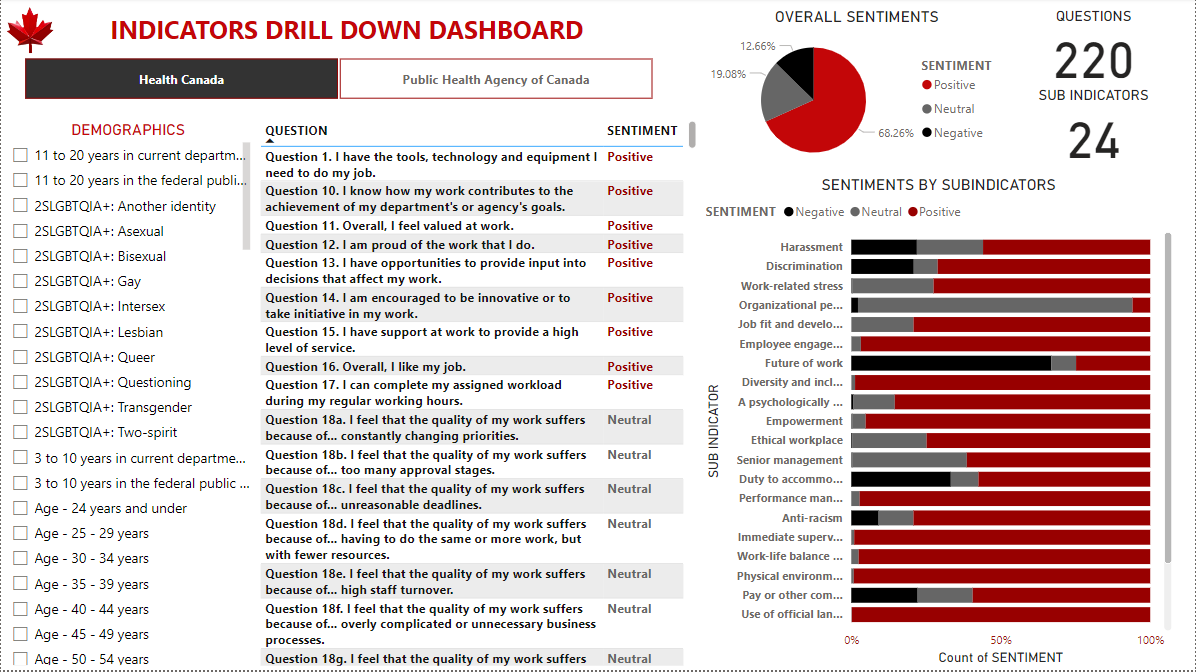

What the dashboard file says about the page in this screenshot:
{"tool":"powerbi","page":{"name":"INDICATORS ANALYSIS","canvas":[1280,720],"ordinal":1},"visuals":[{"type":"tableEx","fields":{"Values":["QUESTIONID_TITLE.TITLE_E","COMBINED_DATASETS.avgSentimentLabel"]},"box":[272.4,125.9,478.1,593.7],"z":0},{"type":"slicer","fields":{"Values":["LVL_Department.DEPT_E"]},"box":[0,57.8,722,56.8],"z":1000},{"type":"slicer","title":"DEMOGRAPHICS","fields":{"Values":["DEMCODE_BYCOND_DESCRIPTION.DESCRIP_E"]},"box":[0,131.1,272.4,588.6],"z":2000},{"type":"pieChart","title":"OVERALL SENTIMENTS","fields":{"Category":["COMBINED_DATASETS.SENTIMENT"],"Y":["CountNonNull(COMBINED_DATASETS.SENTIMENT)"]},"box":[750,9.9,334.3,180.3],"z":3000},{"type":"hundredPercentStackedBarChart","title":"SENTIMENTS BY SUBINDICATORS","fields":{"Category":["SUBINDICATOR.SUBINDICATORENG_1"],"Series":["COMBINED_DATASETS.SENTIMENT"],"Y":["CountNonNull(COMBINED_DATASETS.SENTIMENT)"]},"box":[750,189.5,509.3,530.2],"z":4000},{"type":"card","title":"QUESTIONS","fields":{"Values":["Count(COMBINED_DATASETS.QUESTION)"]},"box":[1062.3,9.9,217.7,82.5],"z":5000},{"type":"image","box":[0,0,61.6,68.2],"z":6000},{"type":"textbox","box":[104.5,9.9,531.1,48.4],"z":7000},{"type":"card","title":"SUB INDICATORS","fields":{"Values":["CountNonNull(SUBINDICATOR.SUBINDICATORENG)"]},"box":[1062.3,94.6,217.7,83.6],"z":8000}]}

Visuals, with their boxes in screenshot pixels (x1, y1, x2, y2), scaled from the page's 1280x720 canvas onto the 1196x672 screenshot:
tableEx - QUESTIONID_TITLE.TITLE_E x COMBINED_DATASETS.avgSentimentLabel: BBox(255, 118, 701, 671)
slicer - LVL_Department.DEPT_E: BBox(0, 54, 675, 107)
"DEMOGRAPHICS" slicer: BBox(0, 122, 255, 671)
"OVERALL SENTIMENTS" pieChart: BBox(701, 9, 1013, 178)
"SENTIMENTS BY SUBINDICATORS" hundredPercentStackedBarChart: BBox(701, 177, 1177, 671)
"QUESTIONS" card: BBox(993, 9, 1195, 86)
image: BBox(0, 0, 58, 64)
textbox: BBox(98, 9, 594, 54)
"SUB INDICATORS" card: BBox(993, 88, 1195, 166)
